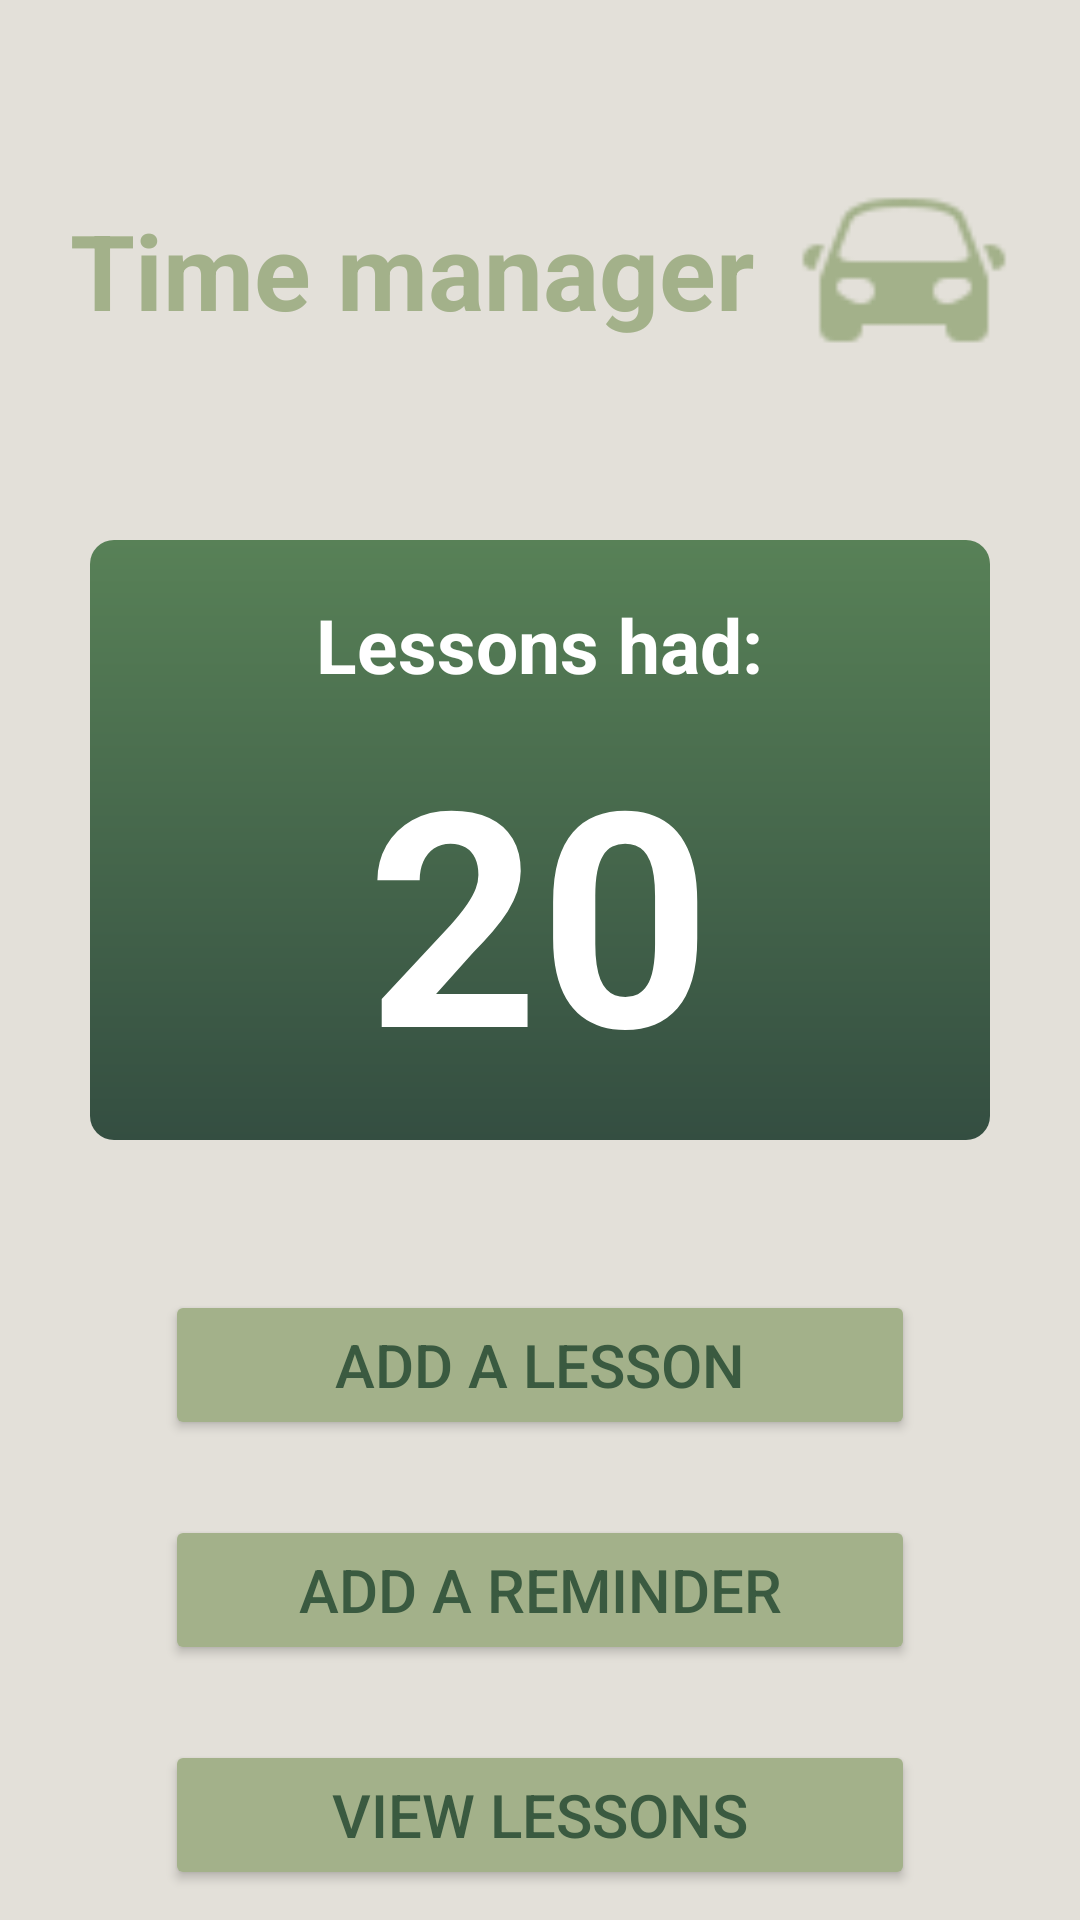

Where icons sit on this 1080 x 1920 app screen, as (x1, y1, x2, y2):
car: (802, 198, 1006, 342)
